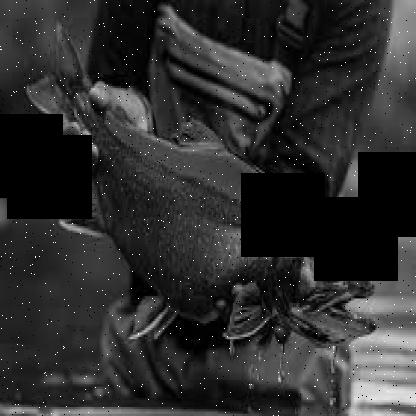fish: (23, 26, 376, 348)
